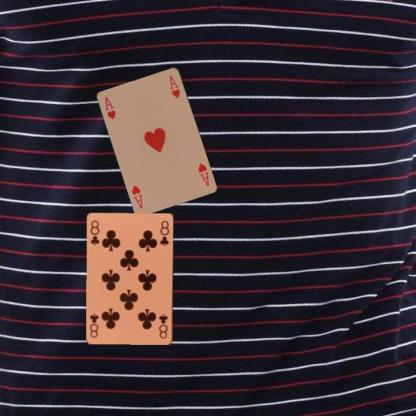8c: (156, 311, 168, 340), (88, 218, 100, 247)
Ah: (102, 94, 117, 121), (195, 160, 210, 187)
